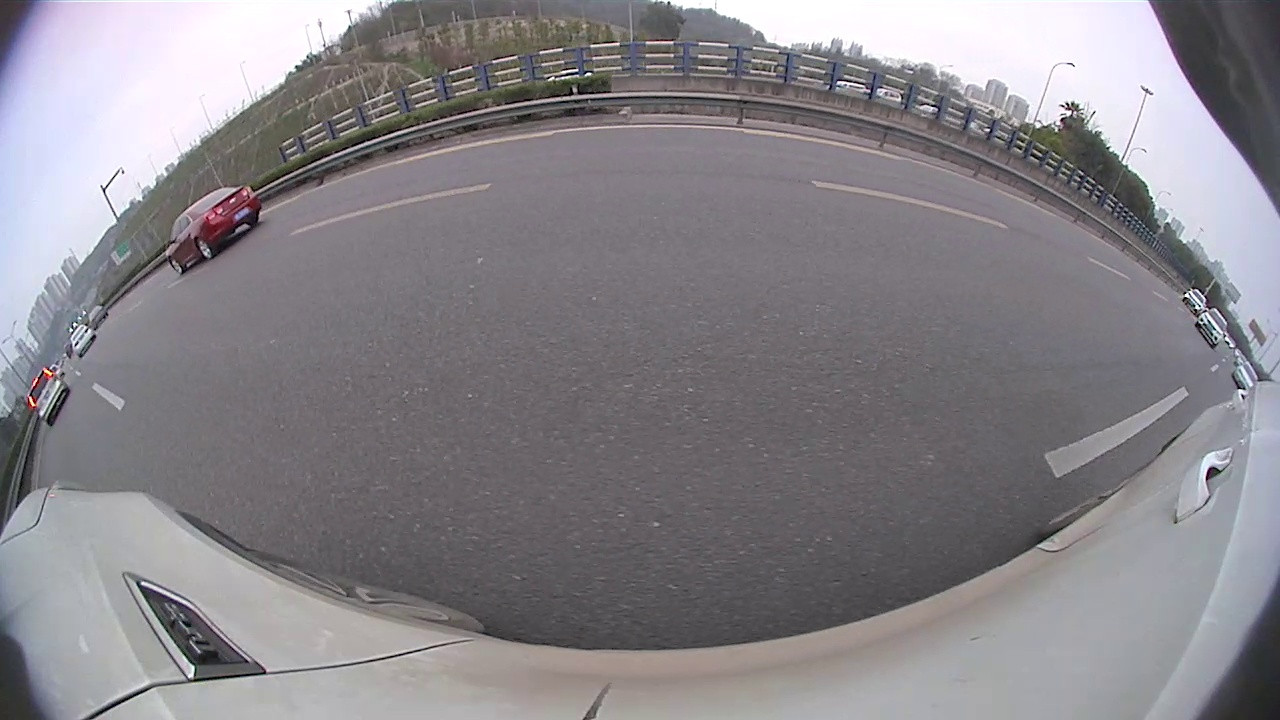car: (165, 183, 263, 275), (24, 365, 71, 428), (1194, 308, 1229, 349), (67, 322, 97, 359), (1231, 361, 1259, 392), (1180, 286, 1208, 316), (86, 304, 109, 330)
front: (168, 256, 184, 274)
rear: (197, 238, 215, 259)
